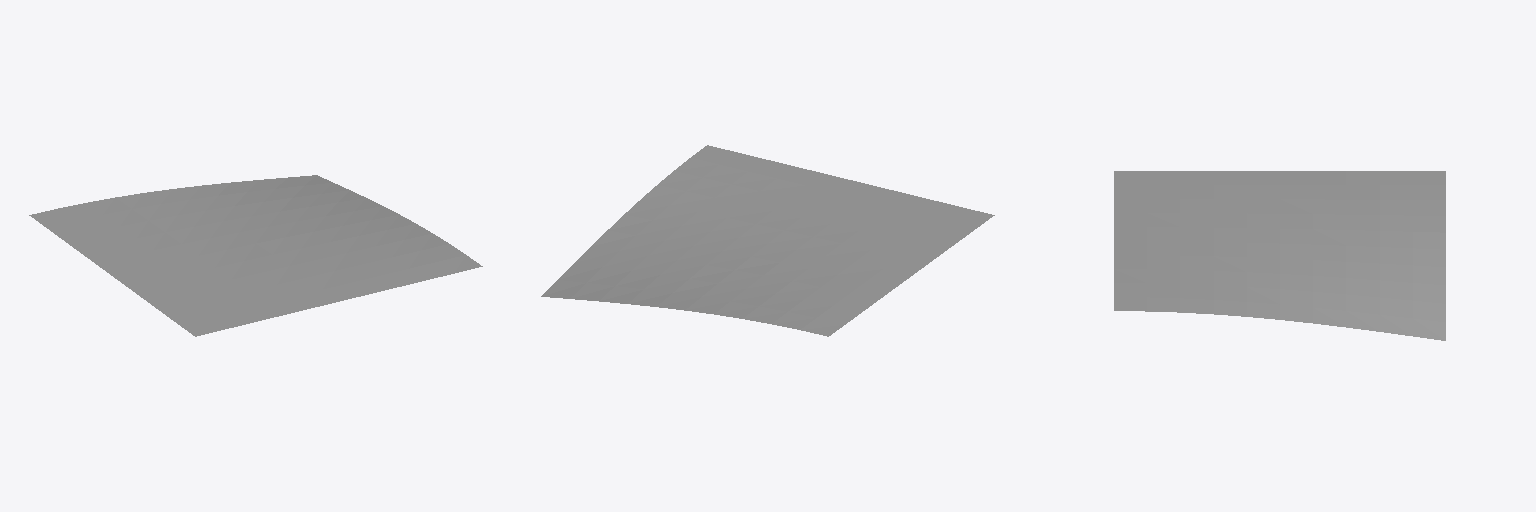
Rendered from grass_top_mid_to_top.obj.
3 views of the same model, side by side, from view 1: azimuth 30°, elevation 25°; view 2: azimuth 150°, elevation 25°; view 3: azimuth 270°, elevation 25° (orthographic).
Visible parts, largest first — view 1: Grass_Plane.000; view 2: Grass_Plane.000; view 3: Grass_Plane.000.
Boxes of the visible parts, x1,y1,x2,y2 form: Grass_Plane.000: [29, 175, 482, 336]; Grass_Plane.000: [541, 145, 994, 336]; Grass_Plane.000: [1114, 171, 1445, 340].
Bounding box in the file's own units: 10 × 1 × 10.